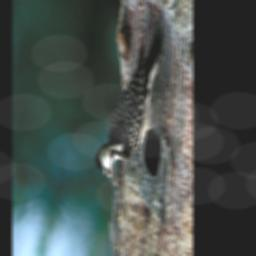Woodpecker: (94, 18, 163, 189)
